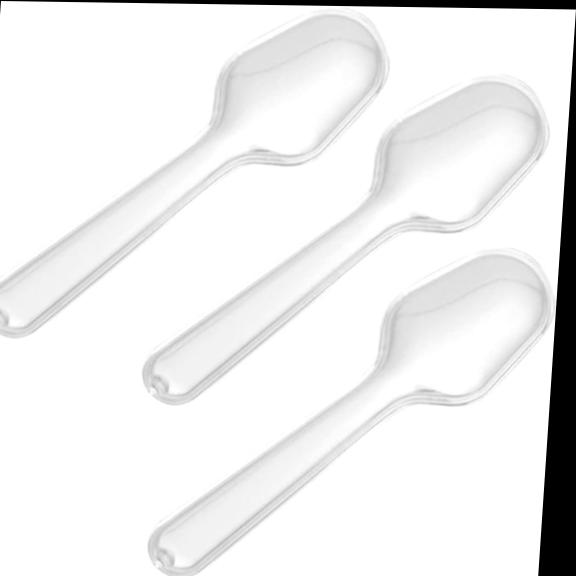Plastik: (142, 76, 547, 403), (148, 251, 552, 575), (0, 10, 387, 336)
